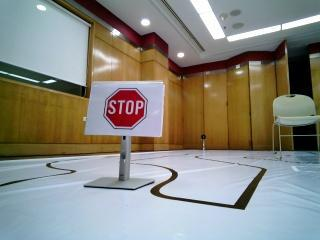stop: (97, 80, 158, 134)
